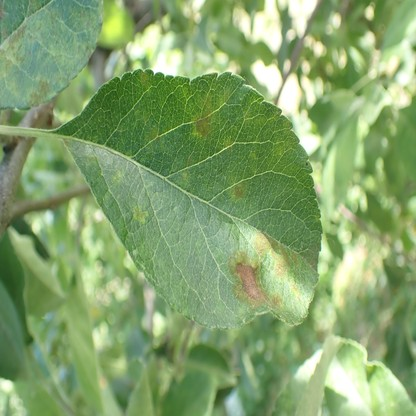scab: (67, 74, 318, 322), (0, 1, 101, 108)
